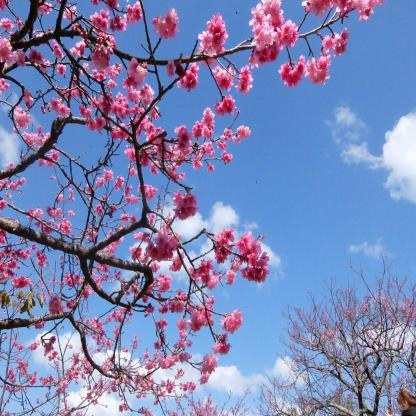KanhiSakura: (0, 0, 385, 416), (254, 244, 416, 416), (130, 385, 256, 416)
